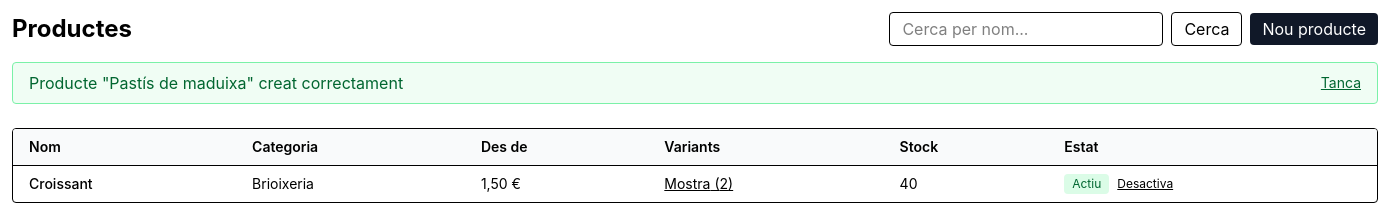
Test: AdminProductsPage › shows the notice sent after creating a product
Check: the text "Producte \"Pastís de maduixa\" creat correctament" is shown, box x1=29 y1=71 x2=403 y2=95
Click the button "Tanca" at [1341, 83], box x1=1321 y1=73 x2=1361 y2=93
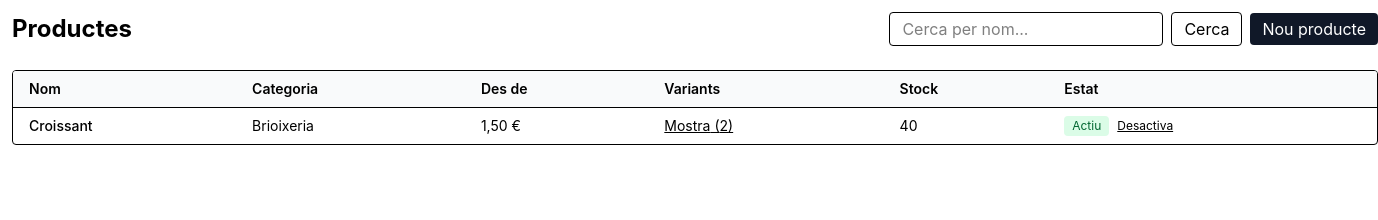
Check: the text "Producte \"Pastís de maduixa\" creat correctament" is gone
